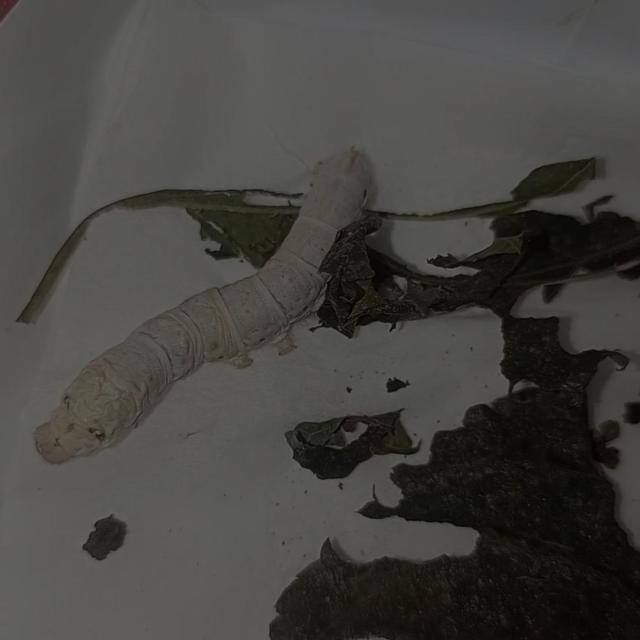Healthy: (28, 138, 380, 464)
